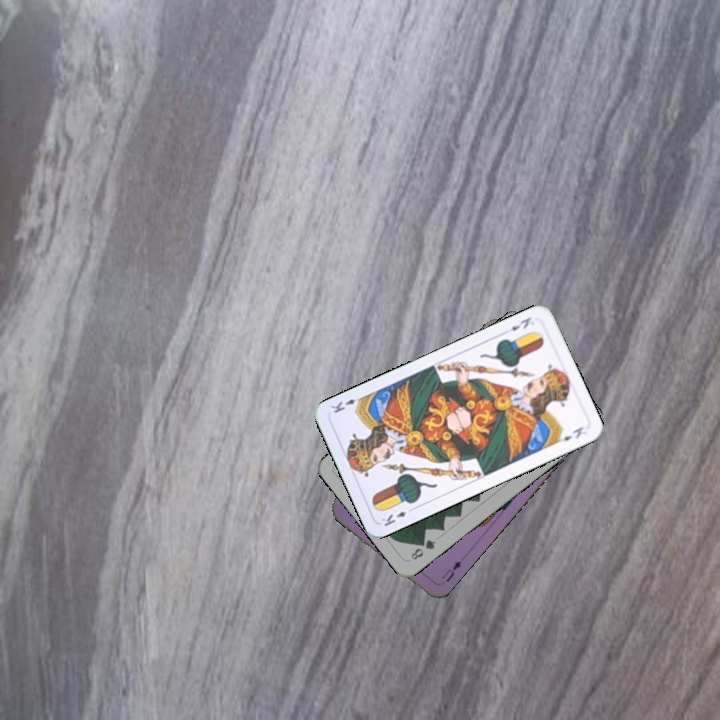EK: (377, 503, 417, 529), (507, 313, 534, 333)
EU: (438, 556, 464, 585)
G8: (406, 535, 439, 563)
